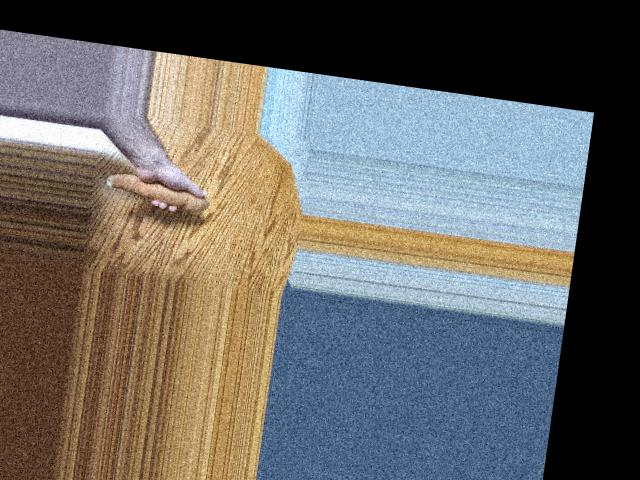sweet_potato: (104, 168, 210, 217)
